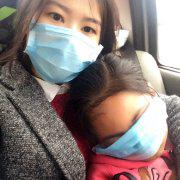OK: (31, 3, 102, 85)
WRONG: (92, 91, 168, 164)
